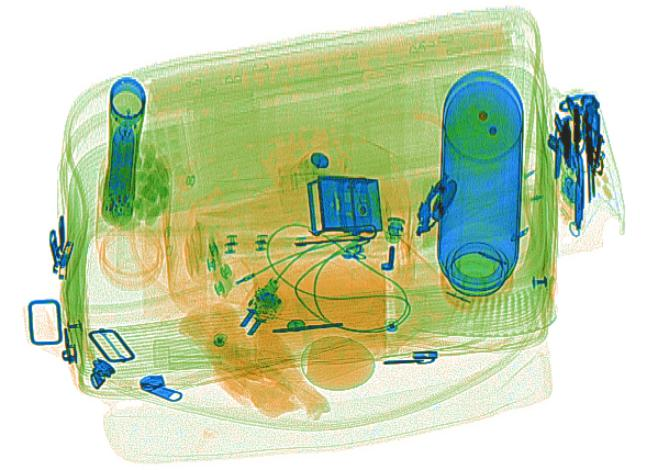battery: (107, 123, 136, 209)
